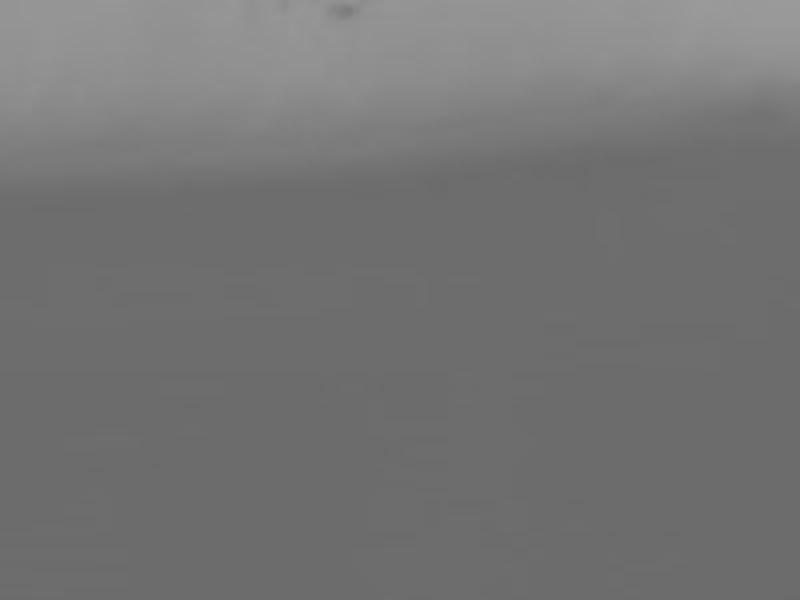defect: (321, 4, 357, 24)
